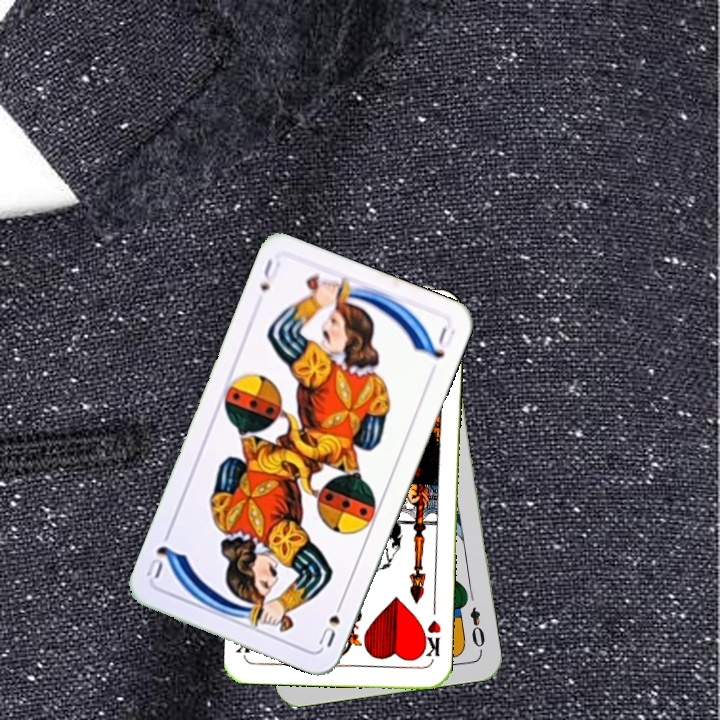EO: (466, 603, 488, 655)
HK: (417, 617, 444, 664)
SU: (314, 594, 346, 650), (256, 254, 284, 294)
